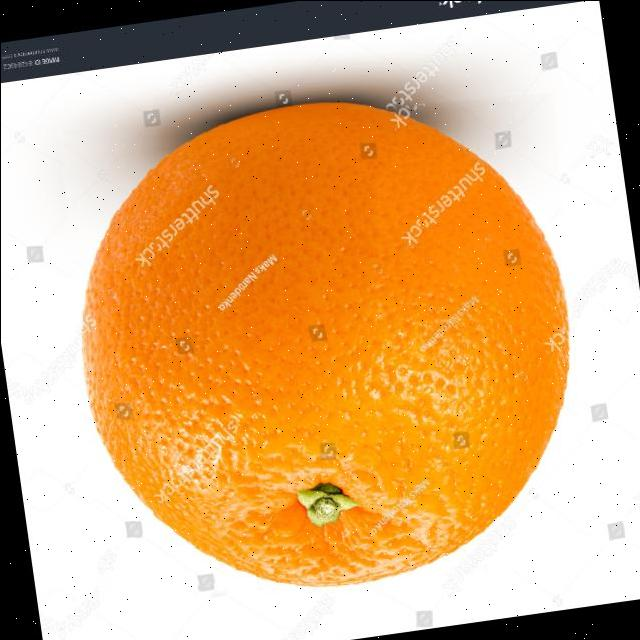Orange: (80, 99, 571, 588)
